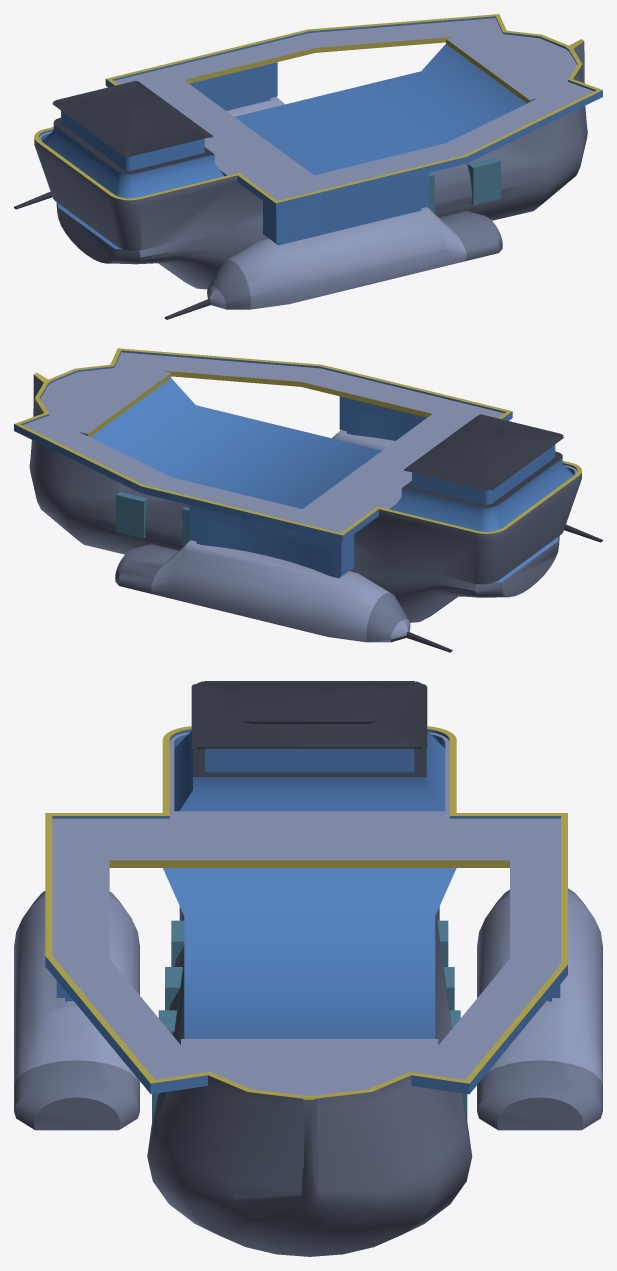
Rendered from Ship2_Body.fbx.
The picture shows the model from 3 angles, top to bottom: view 1: azimuth 30°, elevation 25°; view 2: azimuth 150°, elevation 25°; view 3: azimuth 270°, elevation 25°; orthographic projection. The views are drawn at different scales.
Visible parts, largest first — view 1: Model; view 2: Model; view 3: Model.
Boxes of the visible parts, <box> form: Model: <box>14,14,602,319</box>; Model: <box>14,348,602,652</box>; Model: <box>14,681,602,1256</box>.
Size of the model in its own units: 7635 by 2699 by 4985.
